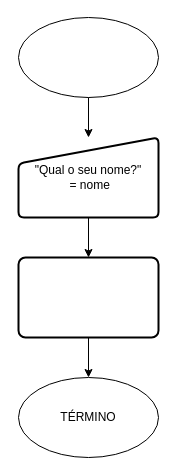
Image size: 176x475. Some labels were removed from this diagram. Each missing label, with the centre of its shape:
Exiba "Prazer em te ter aqui," + nome: [88,297]
INÍCIO: [88,57]
